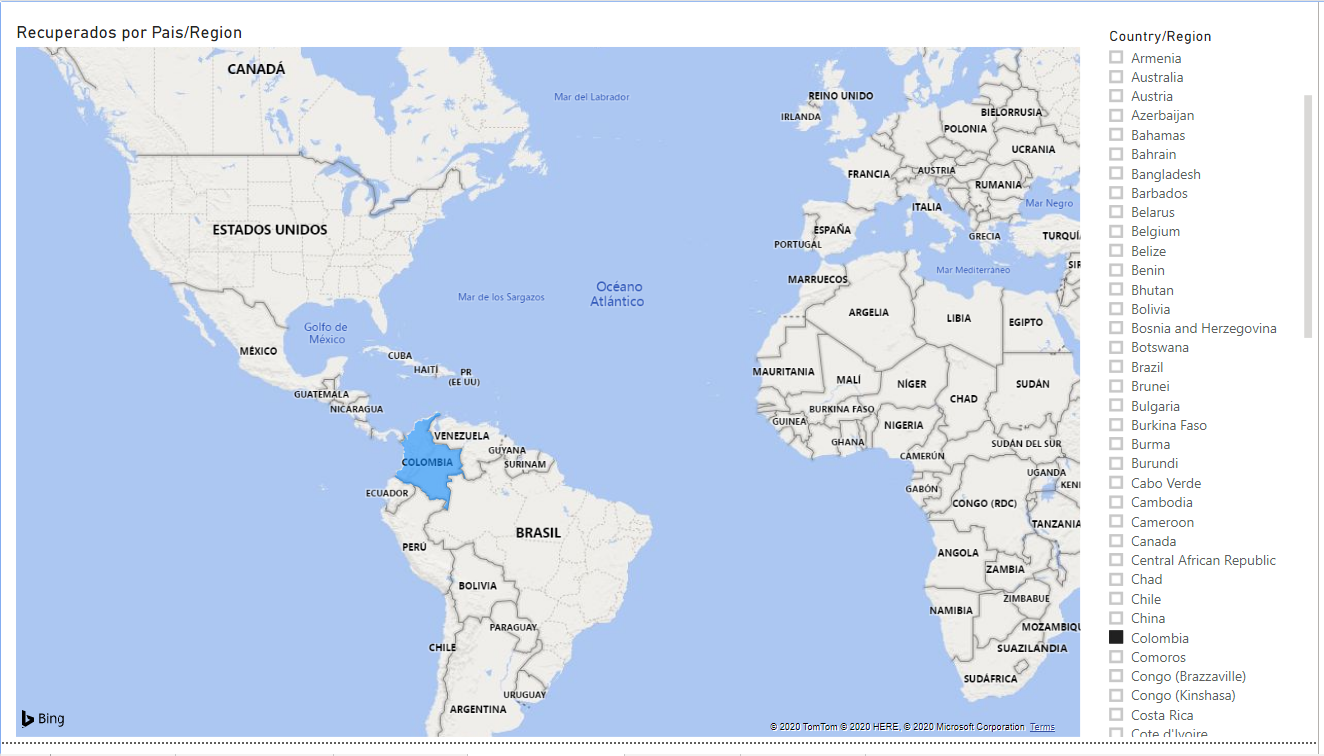

This screenshot's page, from the dashboard's own definition file:
{"tool":"powerbi","page":{"name":"Recovered Map","canvas":[1280,720],"ordinal":3},"visuals":[{"type":"filledMap","fields":{"Category":["Recuperados por pais.Country/Region"]},"box":[9.7,19.4,1045.4,700.2],"z":0},{"type":"slicer","fields":{"Values":["Recuperados por pais.Country/Region"]},"box":[1065,19,215,700],"z":1000}]}

Visuals, with their boxes in screenshot pixels (x1, y1, x2, y2), scaled from the page's 1280x720 canvas onto the 1324x756 screenshot:
filledMap - Recuperados por pais.Country/Region: select_region(10, 20, 1091, 755)
slicer - Recuperados por pais.Country/Region: select_region(1102, 20, 1323, 755)
